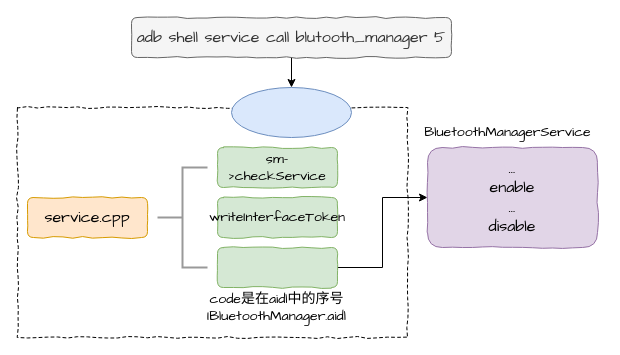
Some shapes in this 620 by 355 pixel diagram are drawn without their labels. The shapes that lost their labels are listed below. From the top down, each one's box as (x1, y1, x2, y2) in pixels, then its label:
(230, 86, 352, 138): service （bin文件）
(216, 246, 338, 288): service->transact
